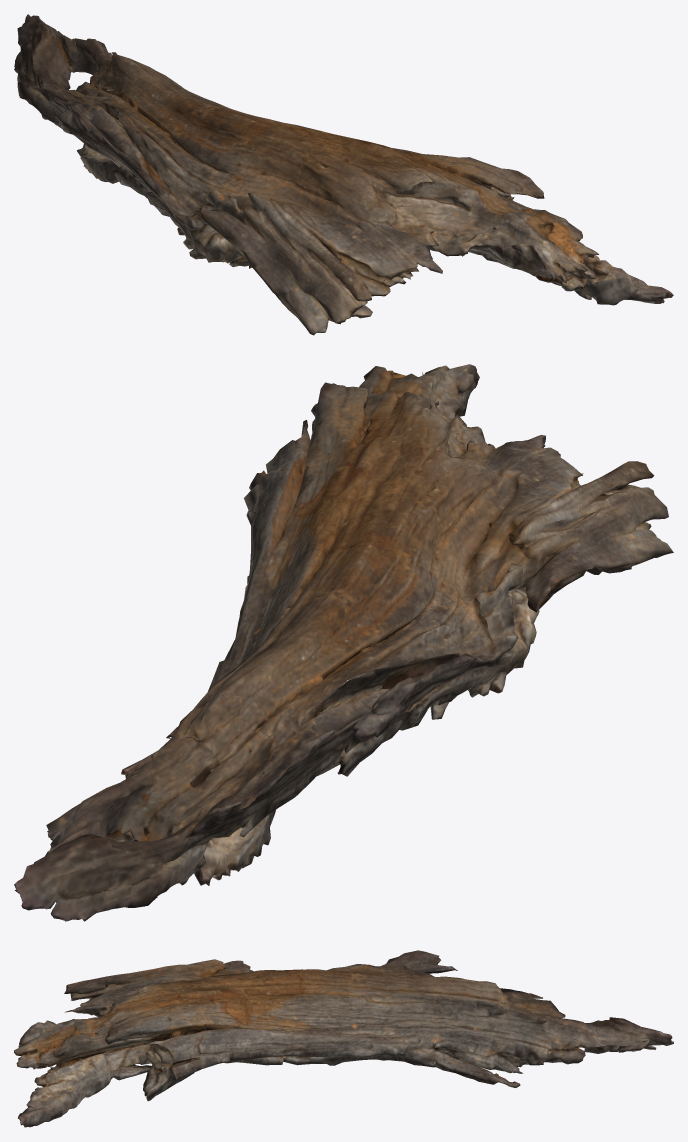
File: bark_debris_01_b.glb
3 views of the same model, one above another, from view 1: azimuth 30°, elevation 25°; view 2: azimuth 150°, elevation 25°; view 3: azimuth 270°, elevation 25° (orthographic). The views are drawn at different scales.
Parts seen in each view (by area): view 1: bark_debris_01_b; view 2: bark_debris_01_b; view 3: bark_debris_01_b.
Part boxes in pixels (box(x1,y1,x2,y2)): bark_debris_01_b: box(14, 14, 673, 335); bark_debris_01_b: box(14, 364, 673, 921); bark_debris_01_b: box(14, 950, 673, 1127).
Bounding box in the file's own units: 0.2041 × 0.0883 × 0.4653.
Materials: 1 (1 with a texture image).
